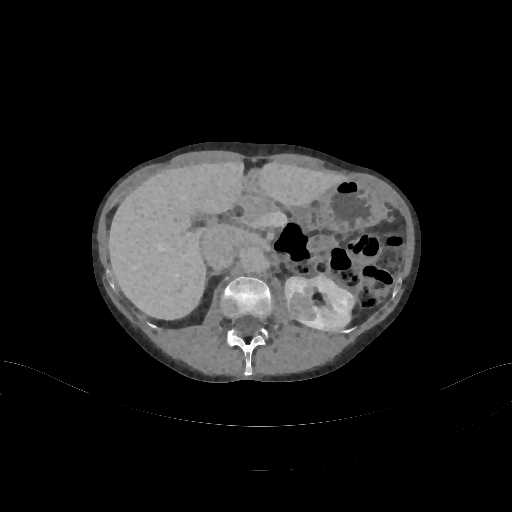Lesion: (285, 289, 318, 324)
